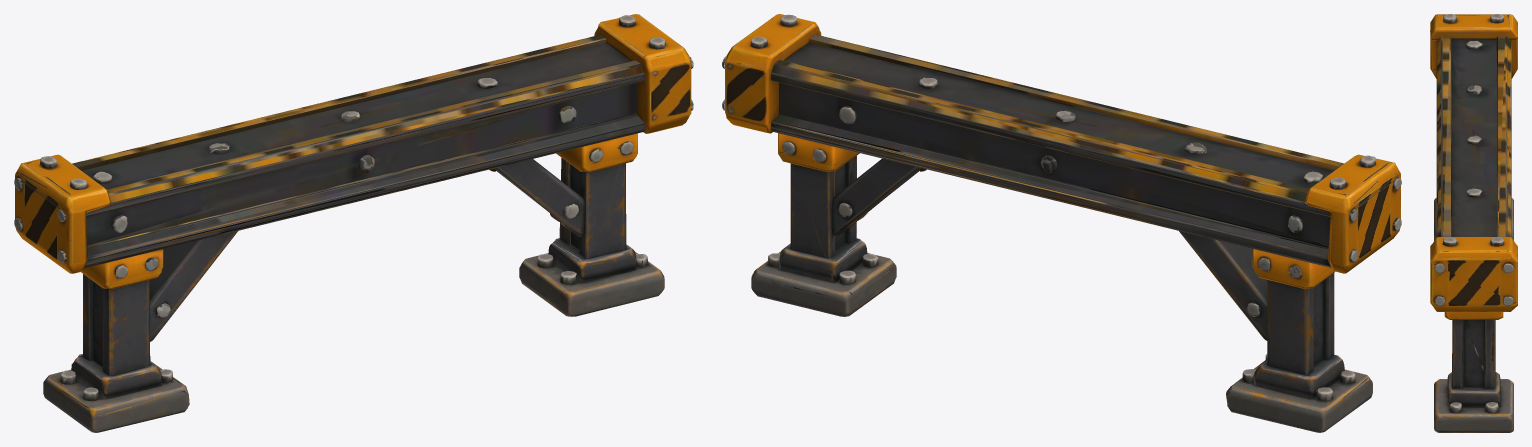
File: balance_beam.glb
The picture shows the model from 3 angles, left to right: view 1: azimuth 30°, elevation 25°; view 2: azimuth 150°, elevation 25°; view 3: azimuth 270°, elevation 25°; orthographic projection. The views are drawn at different scales.
Size of what is drawn, in the model's own units: 2.65 by 0.9999 by 0.4064.
1 material, 1 textured.
